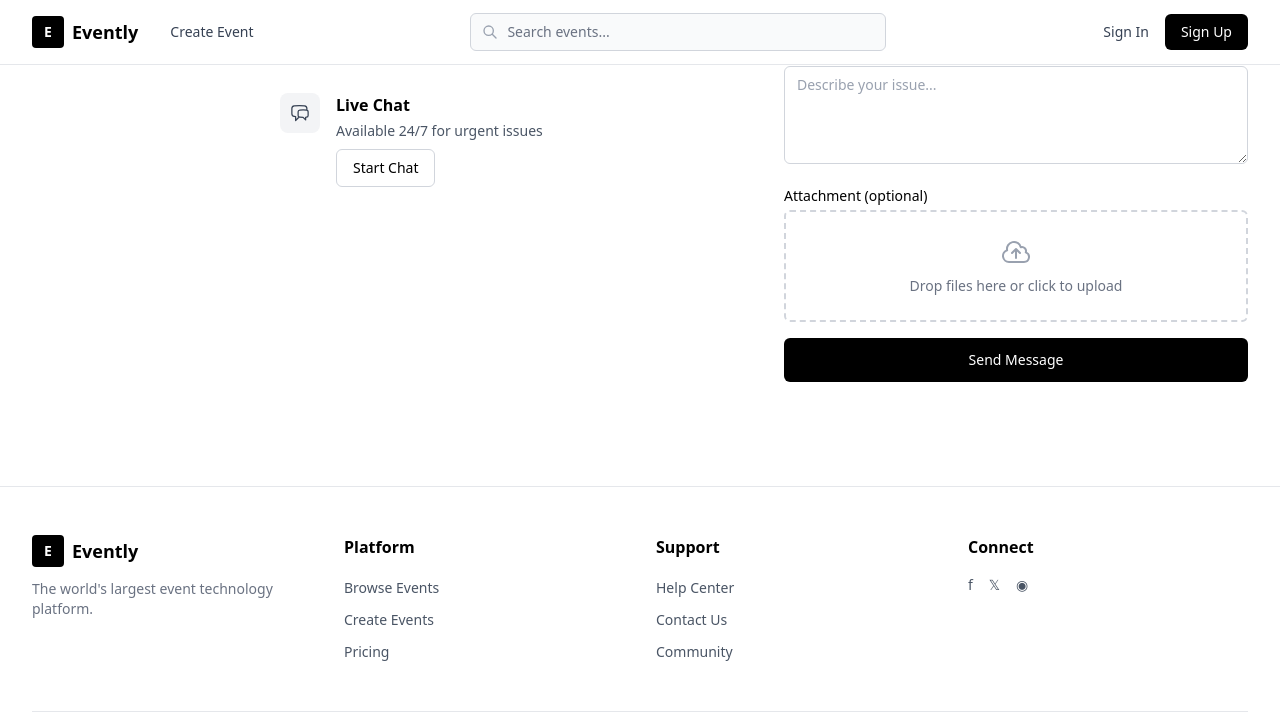
Scenario: HelpPage › shows error when submitting without selecting a subject
(page scrolled)
Click the button "Send Message".
click(1016, 360)  # box [784,338,1248,382]
(page scrolled)
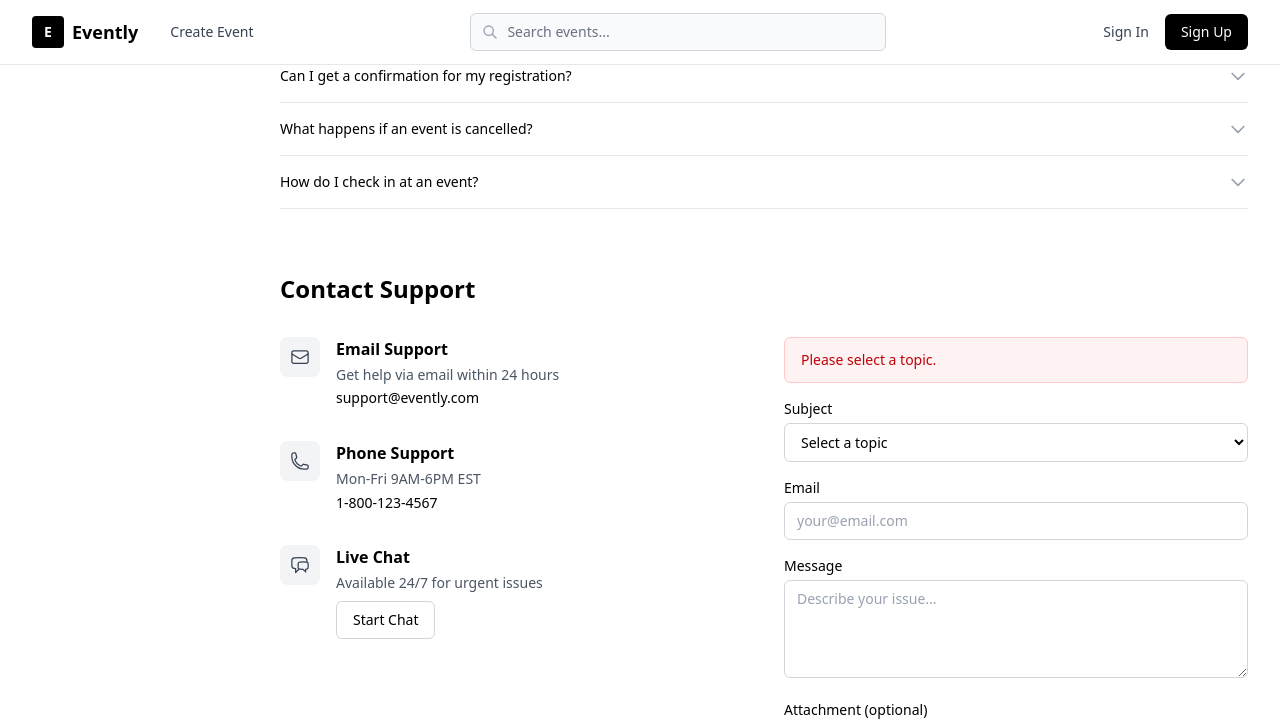
Expected: the text "Please select a topic." is shown, [784,337,1248,383]
